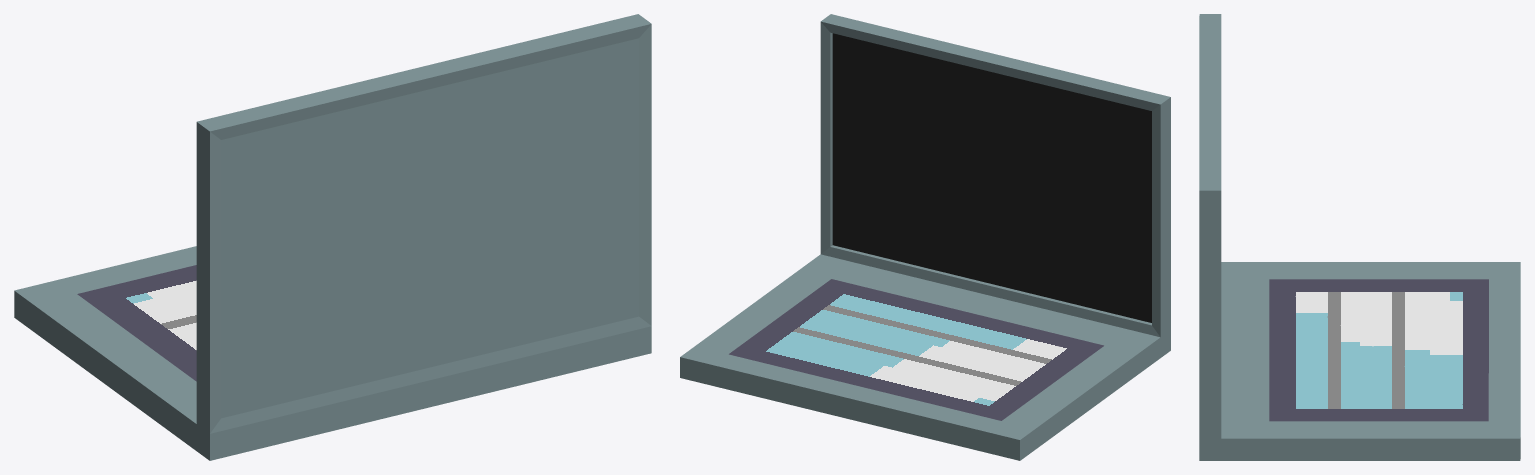
File: Laptop.fbx
3 views of the same model, side by side, from view 1: azimuth 30°, elevation 25°; view 2: azimuth 150°, elevation 25°; view 3: azimuth 270°, elevation 25° (orthographic). The views are drawn at different scales.
Visible parts, largest first — view 1: Laptop; view 2: Laptop; view 3: Laptop.
Boxes of the visible parts, <box> form: Laptop: <box>14,14,651,460</box>; Laptop: <box>680,14,1170,460</box>; Laptop: <box>1199,14,1520,460</box>.
Bounding box in the file's own units: 2.48 × 1.76 × 1.9.
Materials: 3 (1 with a texture image).
